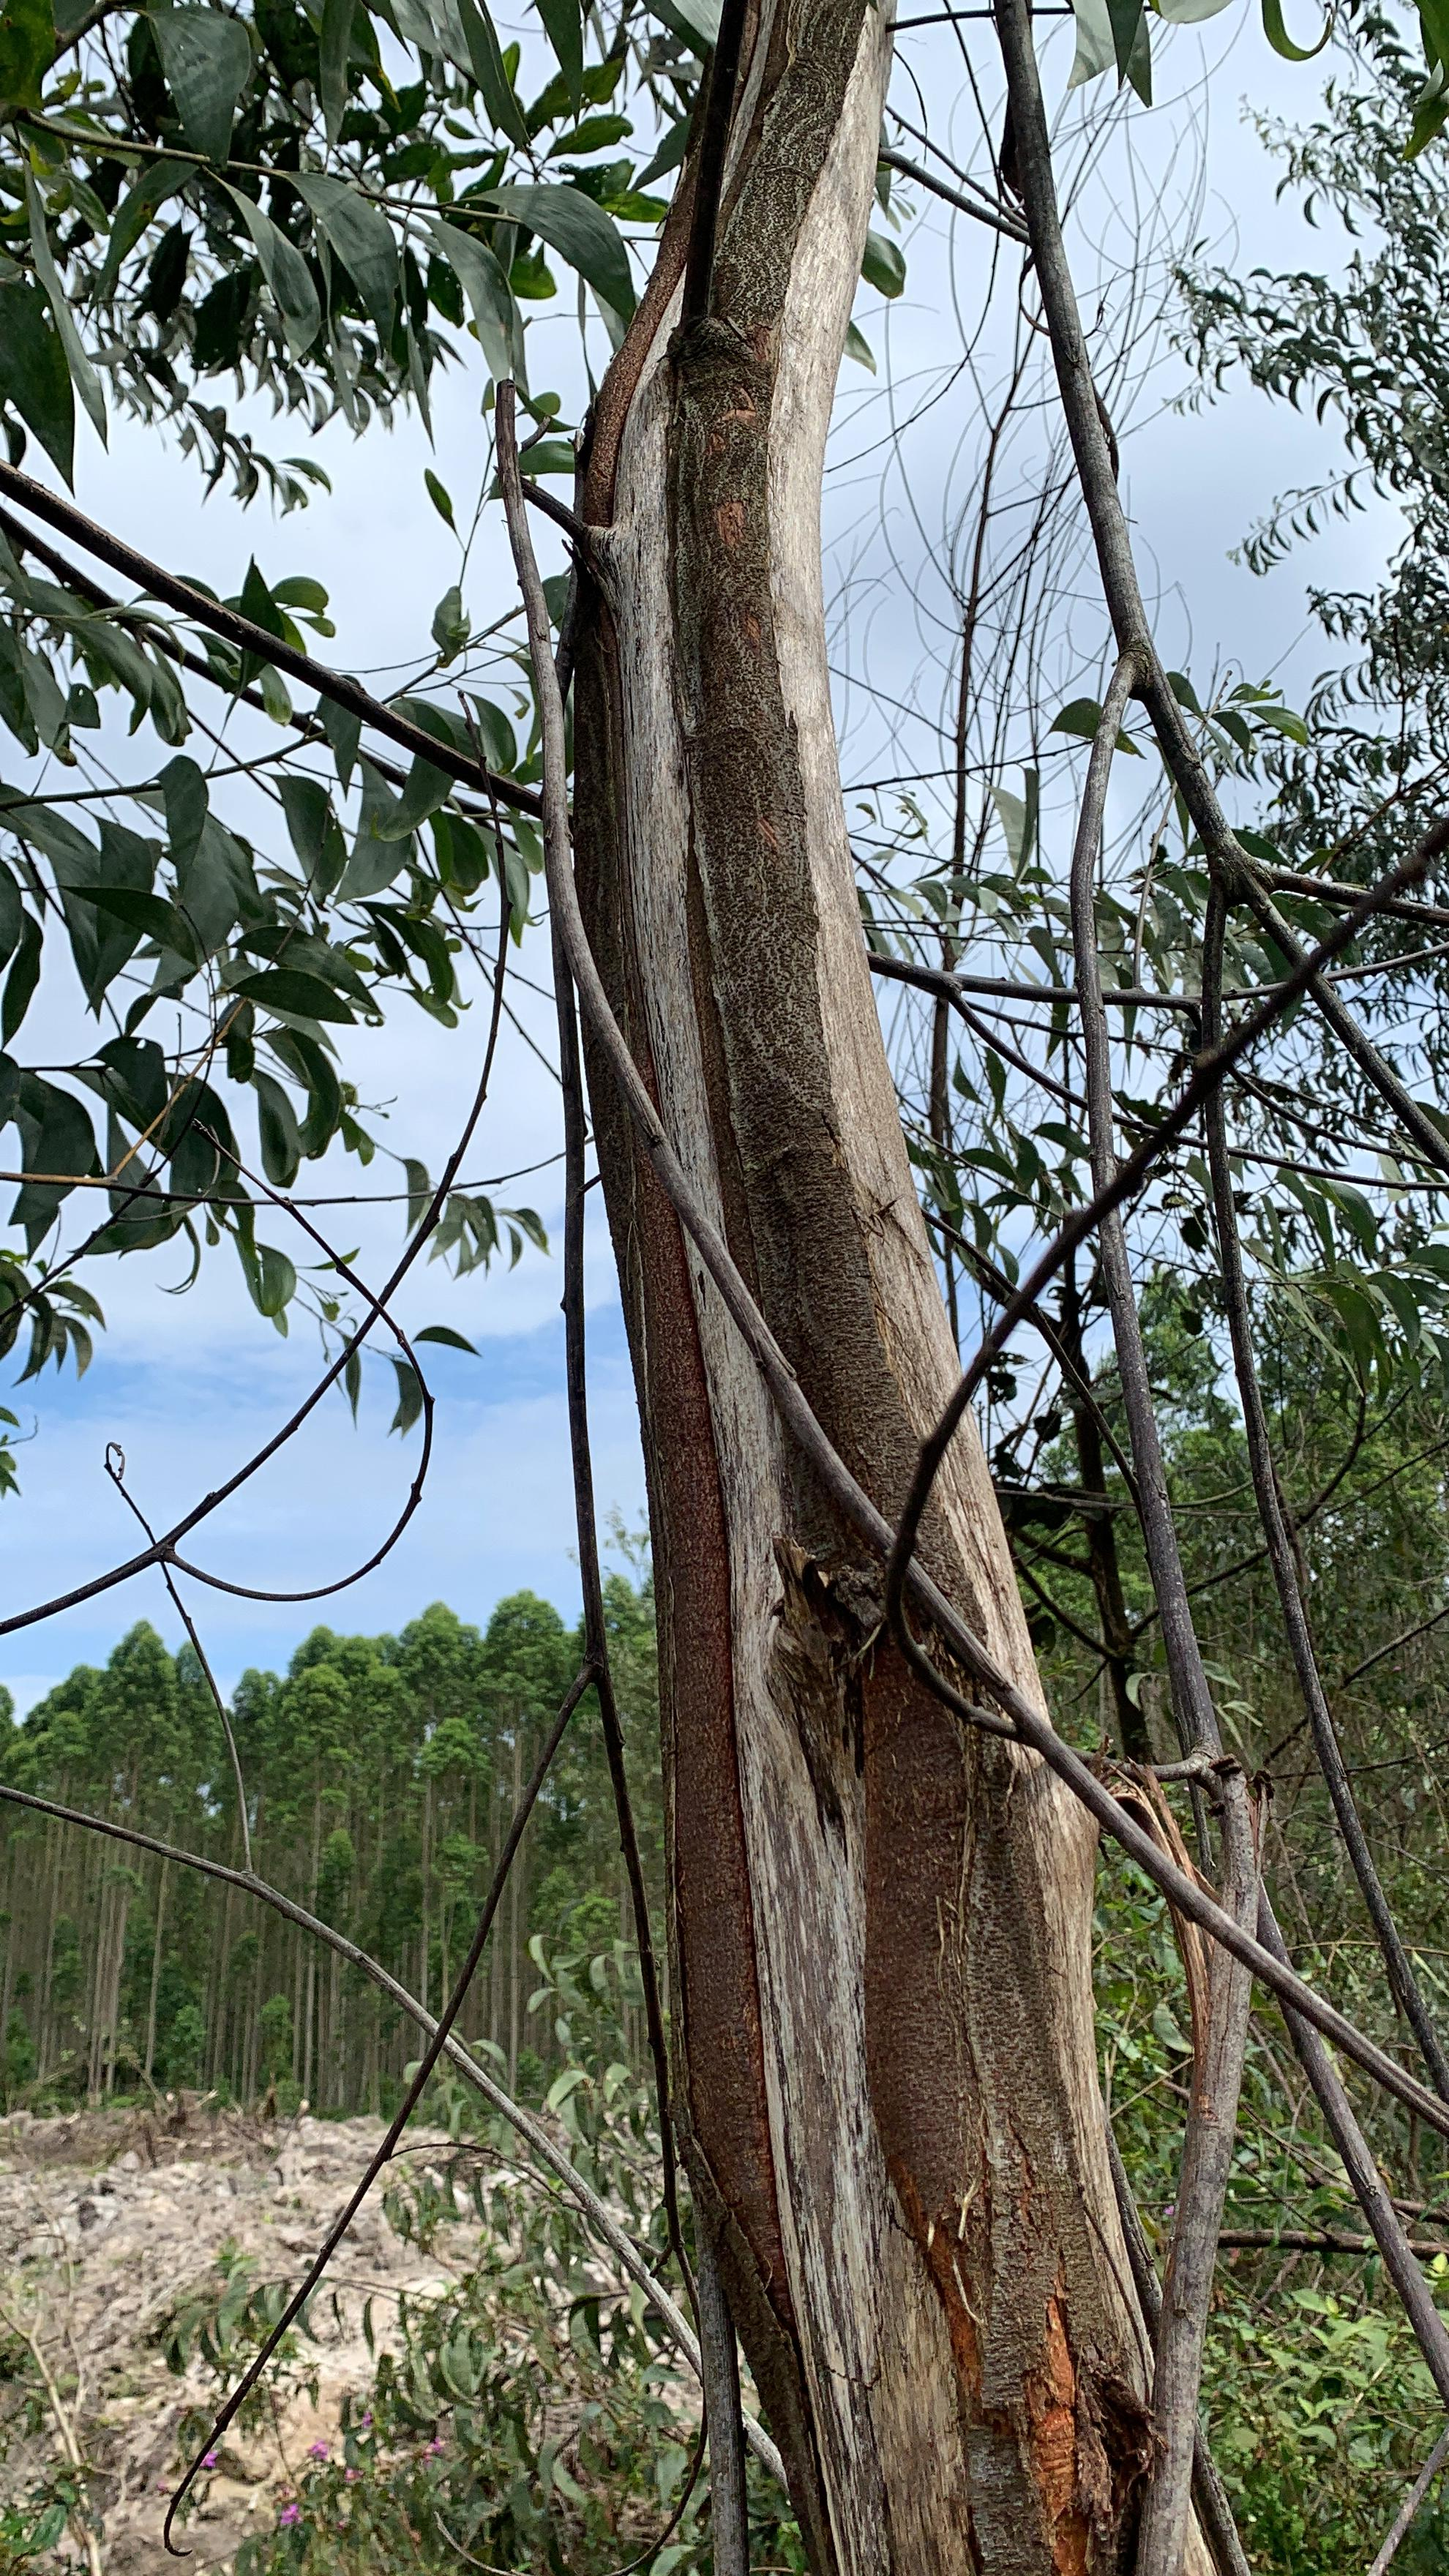Mammals Attack: (538, 0, 1207, 2576)
